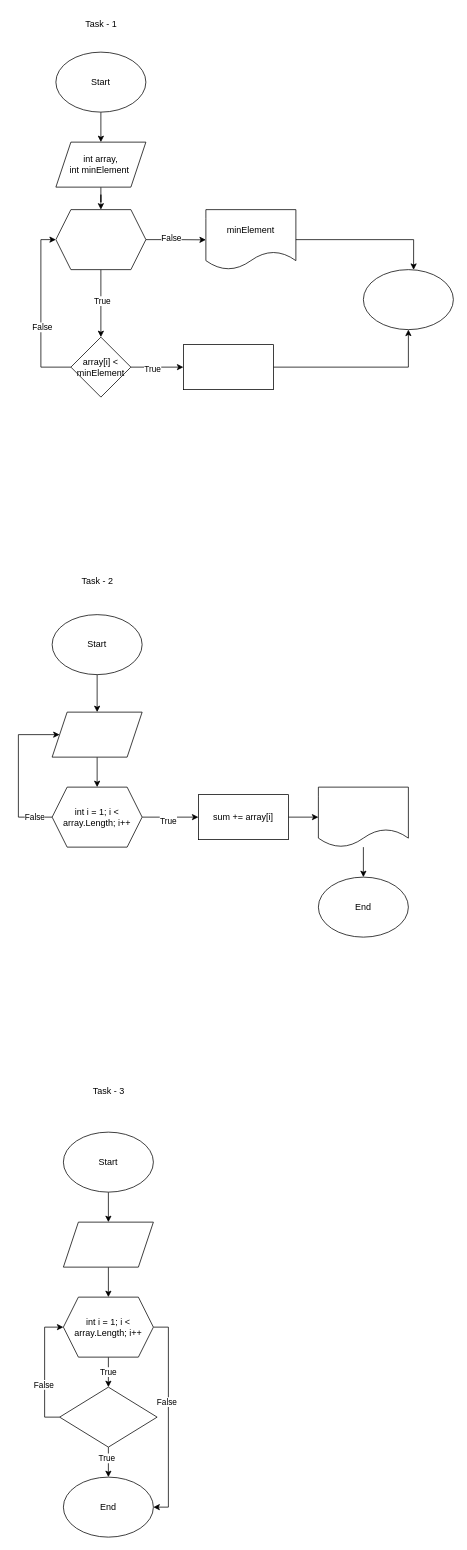
This 467x1550 diagram has some shape labels left out. The centre of each missing label's shape, as x and y in pixels:
array[i].Length == 4: the point at 108,1416
int array, int sum: the point at 96,734
int i = 0; i < array.Length; i++: the point at 100,239
minElement = array[i]: the point at 228,367
string[] array: the point at 108,1244
sum: the point at 363,816
